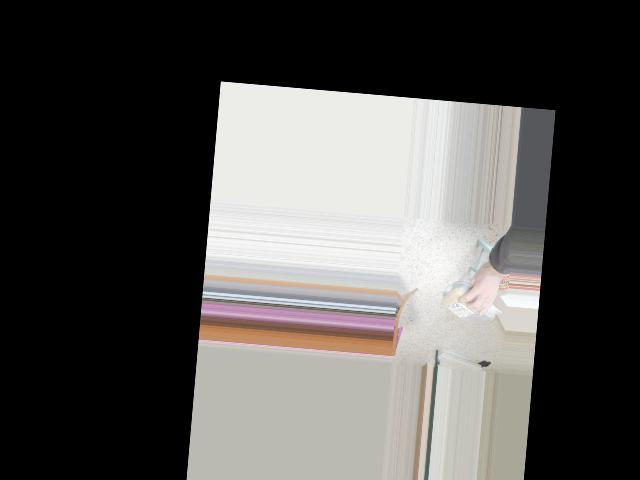cheese: (434, 287, 499, 321)
